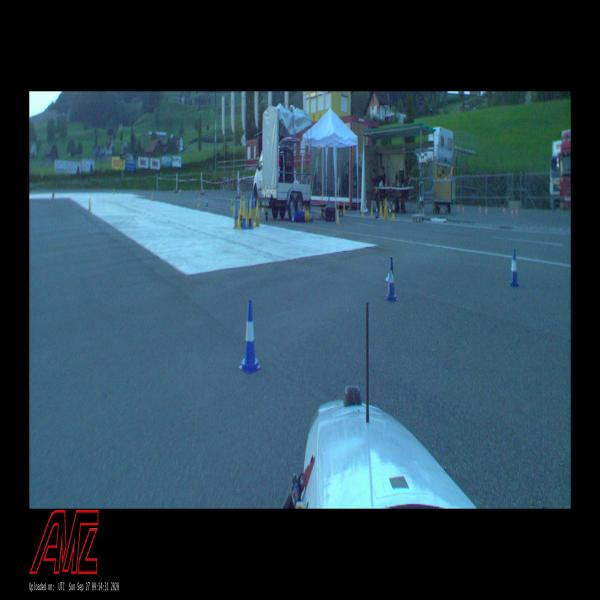blue_cone: (239, 299, 261, 374), (384, 257, 398, 301), (508, 248, 520, 287)
